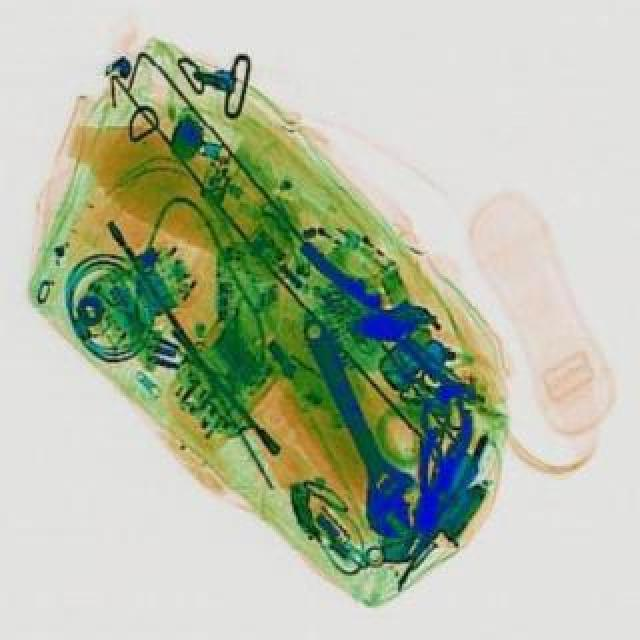scissors: (282, 304, 438, 540)
wrench: (402, 398, 482, 534)
